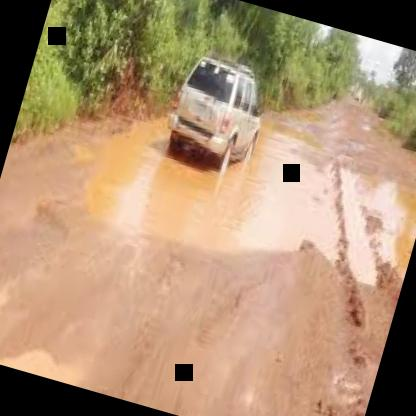car: (156, 41, 286, 186)
